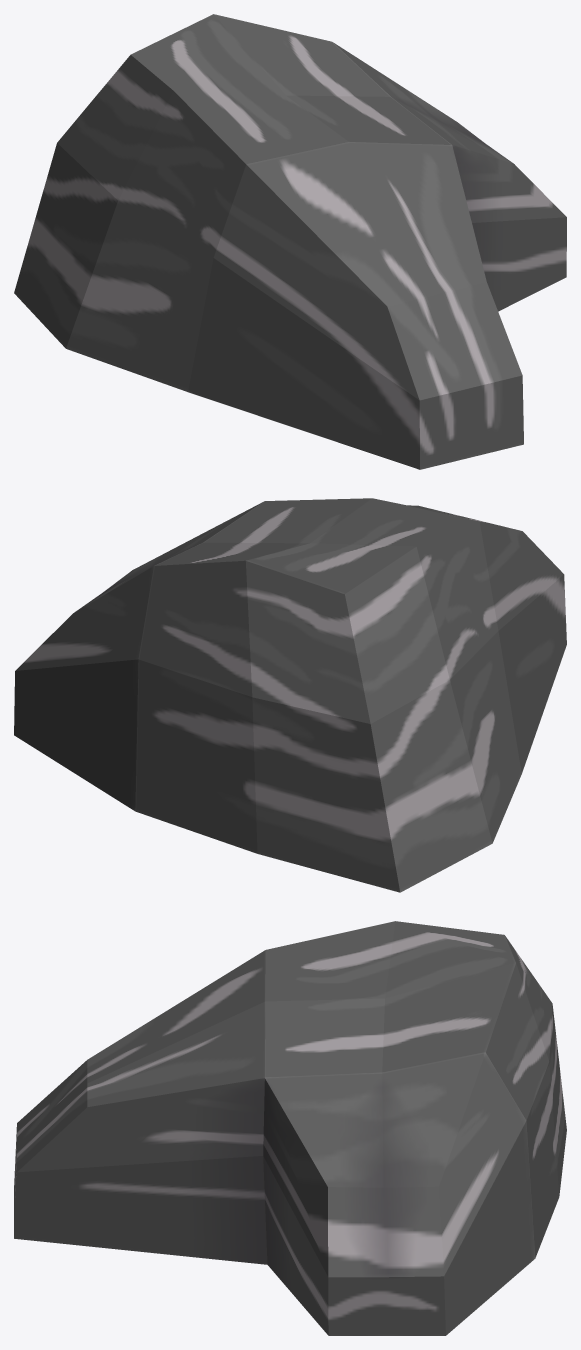
The model's file is StoneMossy.fbx.
3 views of the same model, one above another, from view 1: azimuth 30°, elevation 25°; view 2: azimuth 150°, elevation 25°; view 3: azimuth 270°, elevation 25° (orthographic). The views are drawn at different scales.
Parts seen in each view (by area): view 1: StoneMoss; view 2: StoneMoss; view 3: StoneMoss.
Boxes of the visible parts, left/top/right/bottom form: StoneMoss: left=14, top=14, right=566, bottom=469; StoneMoss: left=14, top=498, right=566, bottom=892; StoneMoss: left=14, top=921, right=566, bottom=1335.
Size of the model in its own units: 219 by 119 by 238.
